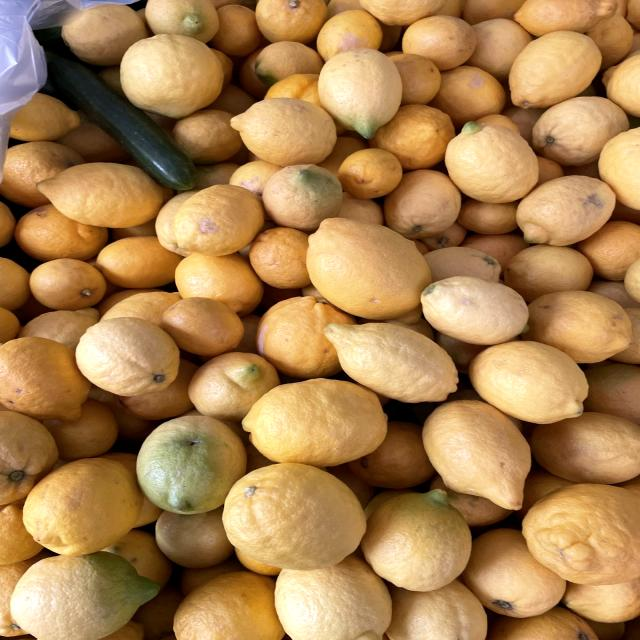lemon: (218, 459, 374, 576), (301, 205, 443, 321), (15, 453, 152, 561), (419, 394, 541, 515), (238, 374, 390, 465), (321, 318, 472, 408), (459, 340, 612, 426), (365, 482, 475, 595), (34, 157, 170, 236), (440, 112, 548, 209), (314, 41, 409, 146), (226, 92, 350, 170), (499, 26, 609, 113), (73, 315, 183, 398)
